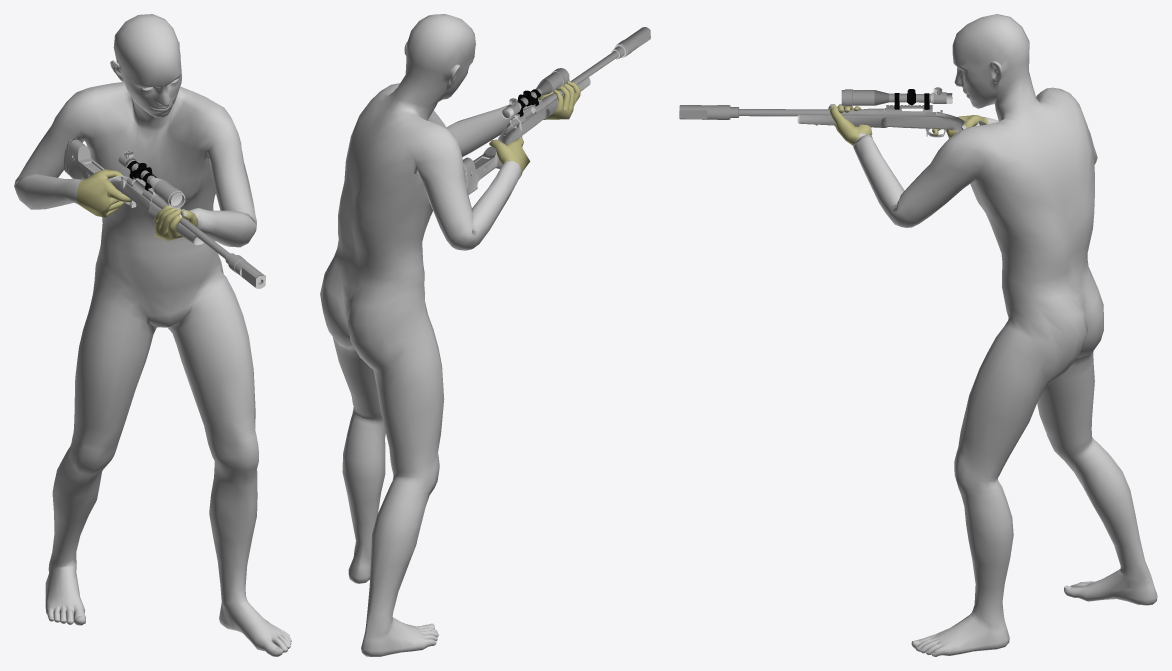
Rendered from sniper.glb.
3 renders of one model, left to right at view 1: azimuth 30°, elevation 25°; view 2: azimuth 150°, elevation 25°; view 3: azimuth 270°, elevation 25°, orthographic. The views are drawn at different scales.
Parts seen in each view (by area): view 1: man001; view 2: man001; view 3: man001.
Boxes of the visible parts, x1,y1,x2,y2 form: man001: [14, 14, 291, 656]; man001: [320, 14, 650, 656]; man001: [679, 14, 1157, 656].
Bounding box in the file's own units: 0.5747 × 1.74 × 1.27.
